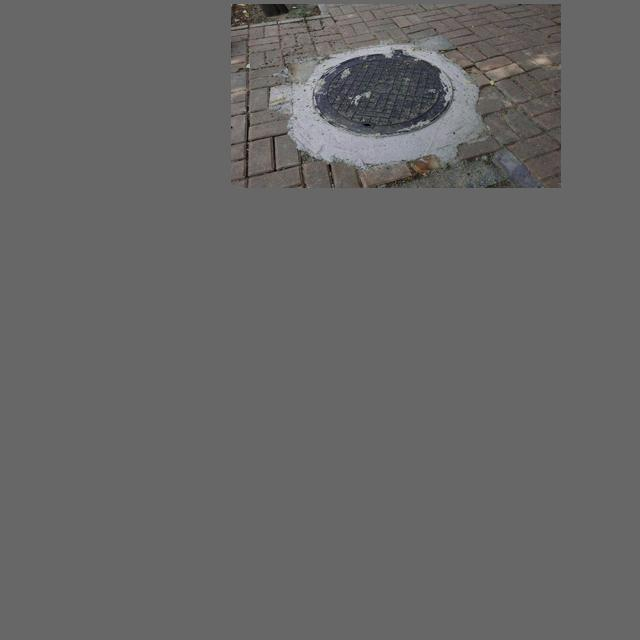good: (289, 42, 476, 162)
